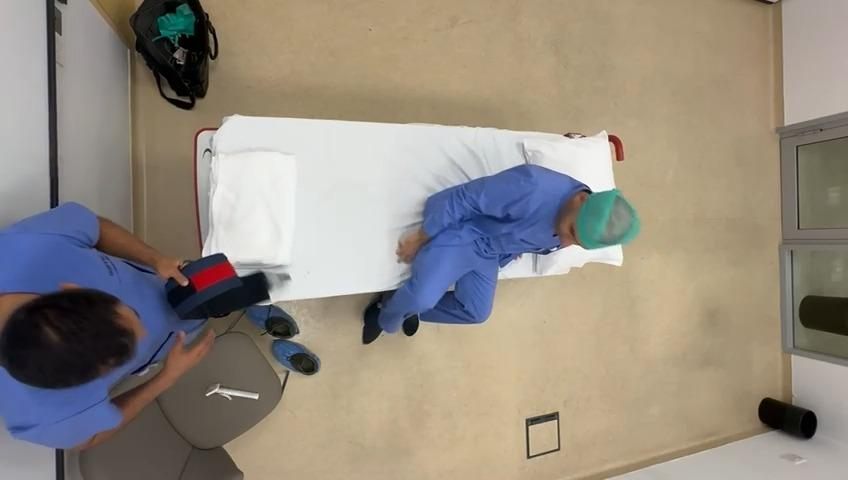bed: (197, 119, 631, 306)
prepstick: (205, 383, 258, 401)
tourniquet: (166, 253, 242, 318)
